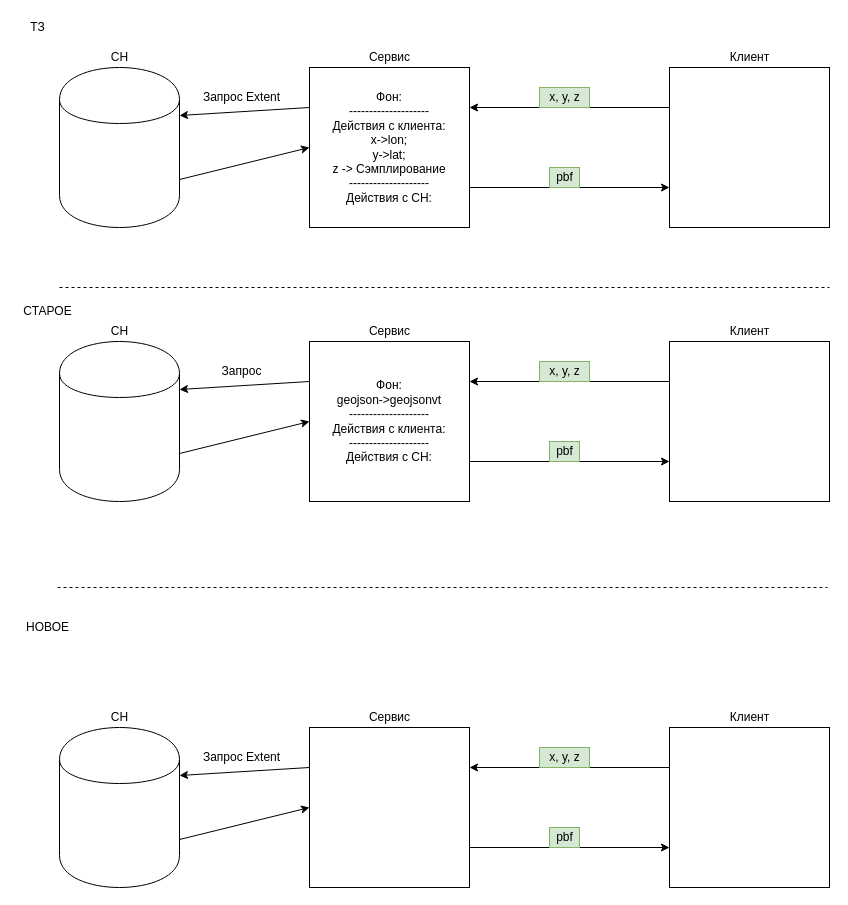
Some shapes in this 848 by 905 pixel diagram are drawn without their labels. Here are the shapes that lost their labels. From the top down, the centre of each, then its label:
At pixel 119 147: "+geojson обрез +Сэмплирование".
At pixel 119 421: "geojson".
